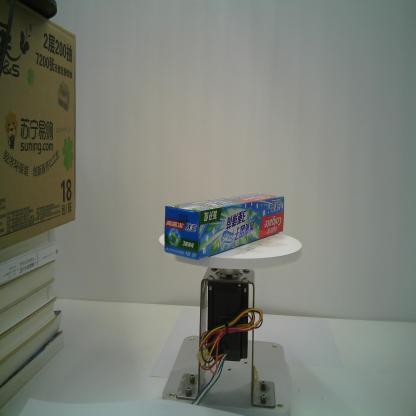Personal Hygiene: (165, 193, 284, 260)
